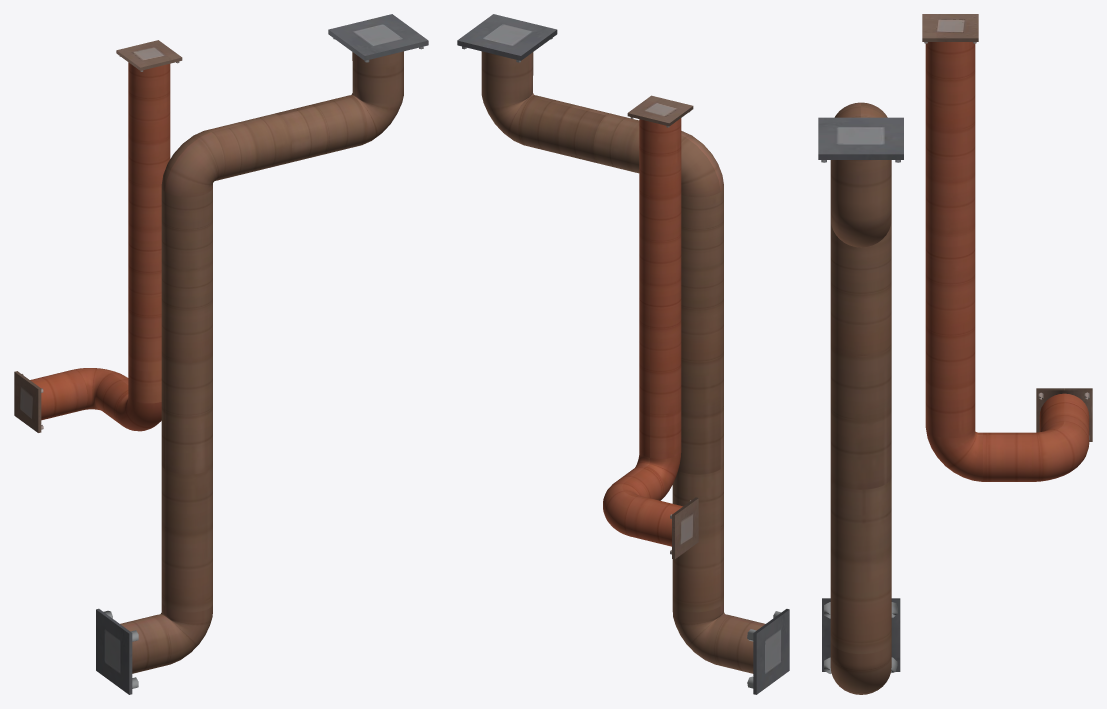
3 views of the same model, side by side, from view 1: azimuth 30°, elevation 25°; view 2: azimuth 150°, elevation 25°; view 3: azimuth 270°, elevation 25° (orthographic). The views are drawn at different scales.
Visible parts, largest first — view 1: body0_model0_lod0_mesh0; view 2: body0_model0_lod0_mesh0; view 3: body0_model0_lod0_mesh0.
Part boxes in pixels (box(x1,y1,x2,y2)): body0_model0_lod0_mesh0: box(14, 14, 428, 694); body0_model0_lod0_mesh0: box(457, 14, 789, 694); body0_model0_lod0_mesh0: box(818, 14, 1092, 694).
Bounding box in the file's own units: 99.7 × 186 × 67.46.
1 material, 1 textured.
